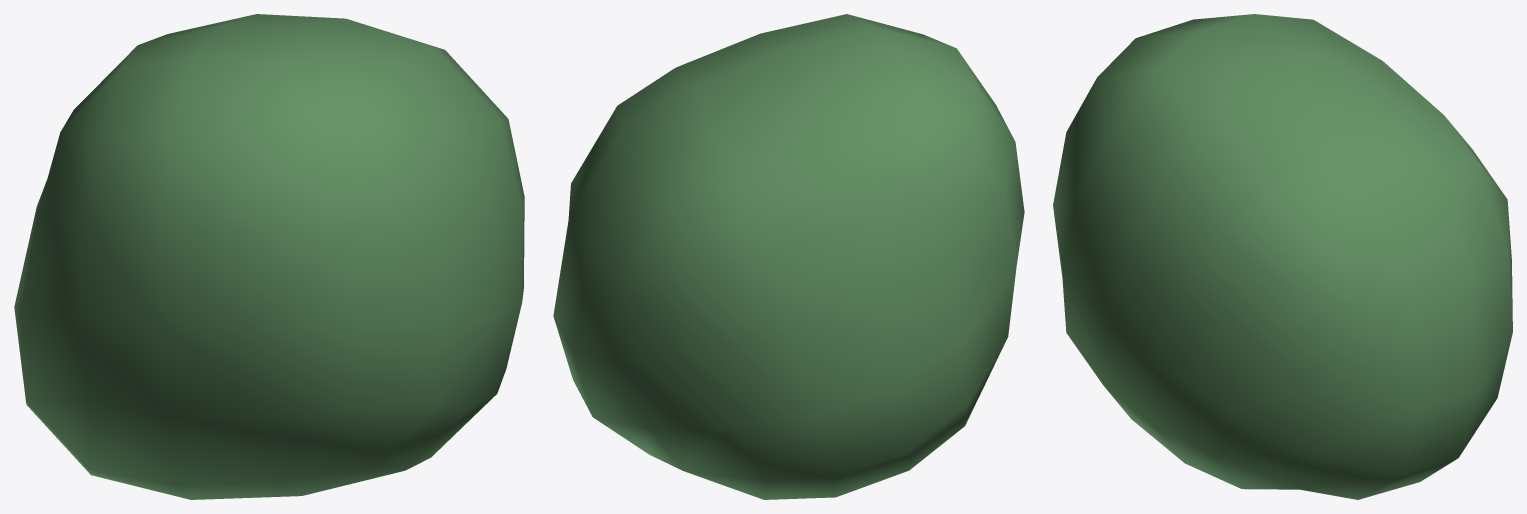
Rendered from Hojas_1.fbx.
The picture shows the model from 3 angles, left to right: view 1: azimuth 30°, elevation 25°; view 2: azimuth 150°, elevation 25°; view 3: azimuth 270°, elevation 25°; orthographic projection. The views are drawn at different scales.
Visible parts, largest first — view 1: Hojas_1; view 2: Hojas_1; view 3: Hojas_1.
Boxes of the visible parts, x1,y1,x2,y2 form: Hojas_1: (14, 14, 524, 499); Hojas_1: (553, 14, 1024, 499); Hojas_1: (1053, 14, 1512, 499).
Bounding box in the file's own units: 221 × 214 × 216.
